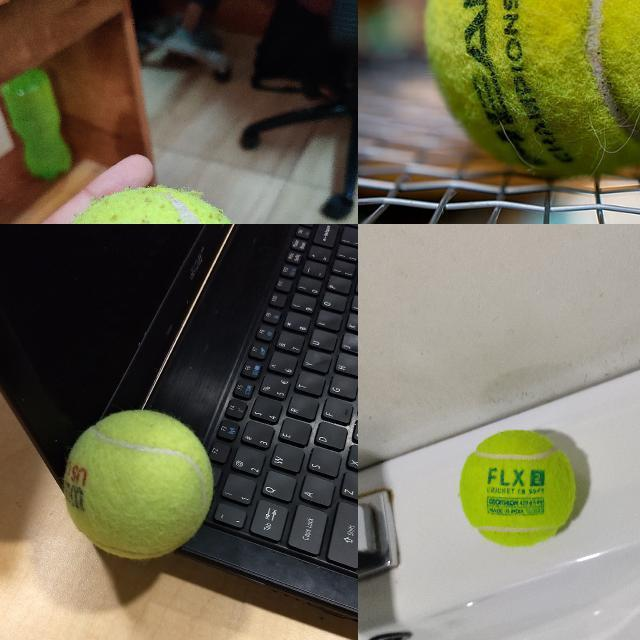tennis-ball: (423, 0, 639, 176), (61, 408, 216, 561), (457, 428, 577, 550)
